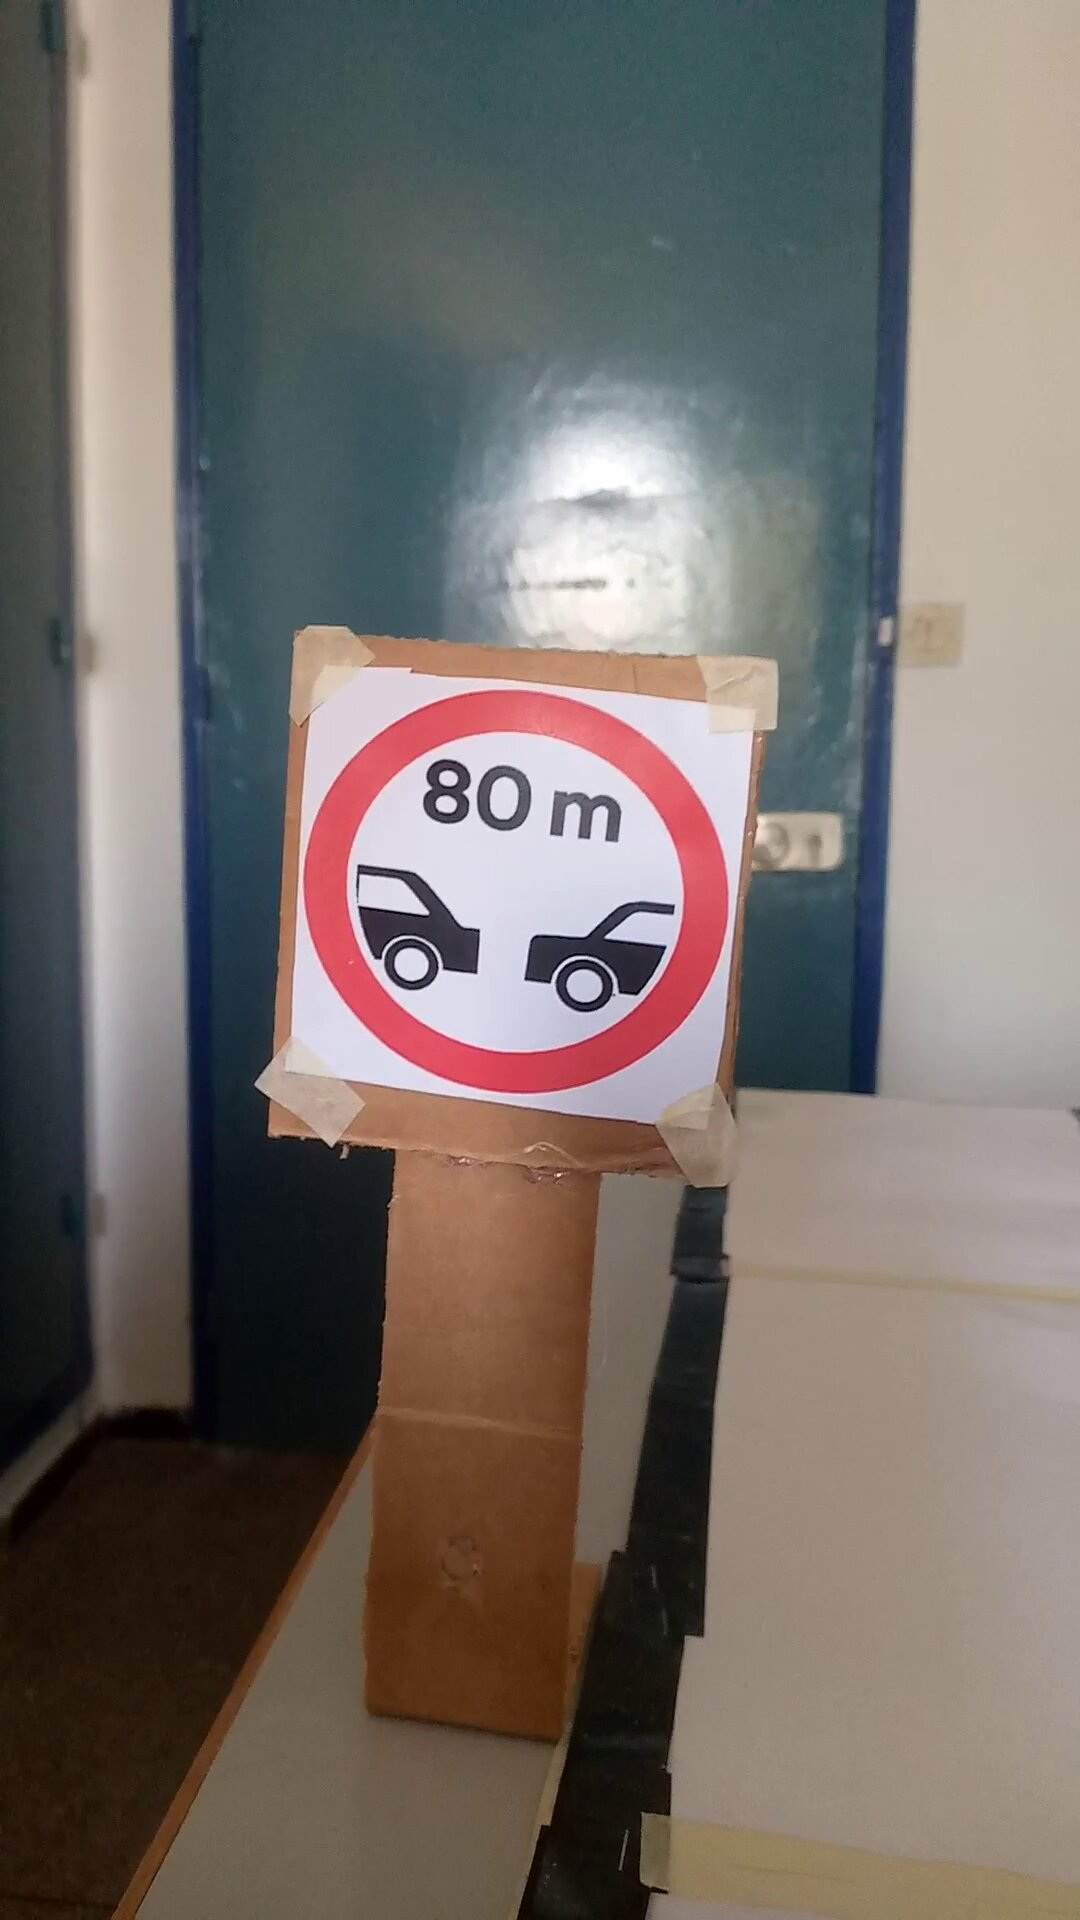panel001: (290, 617, 778, 1139)
